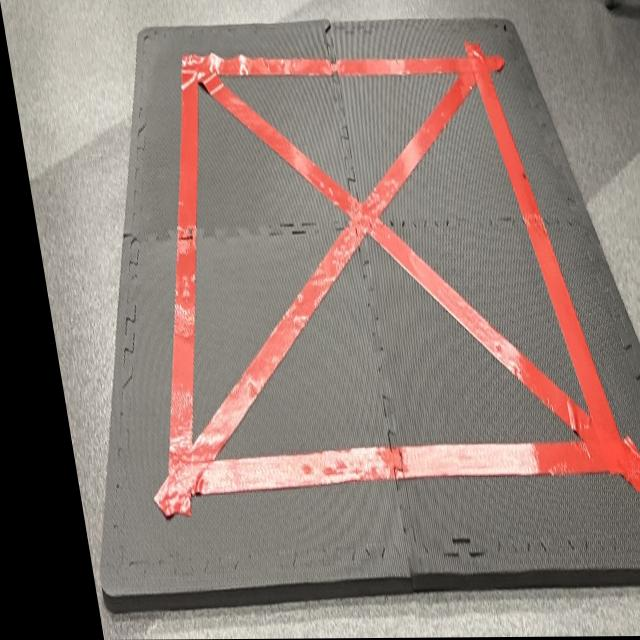landingPads: (9, 23, 640, 614)
